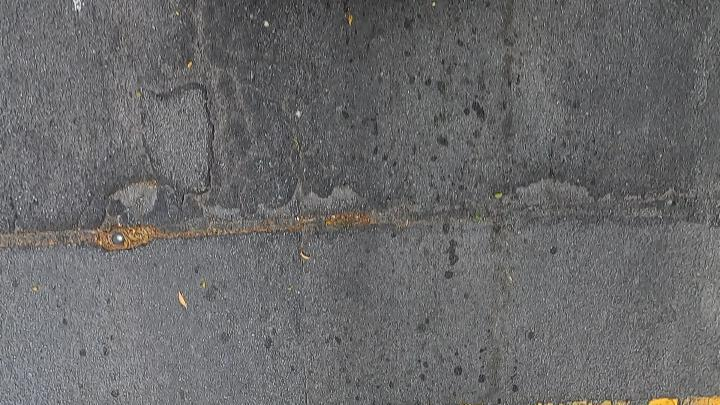Crack: (0, 177, 706, 260), (0, 182, 700, 250)
